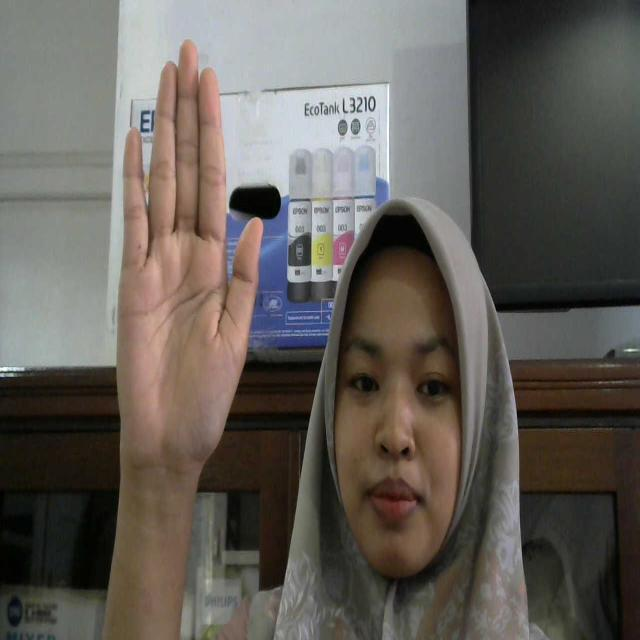hand: (92, 26, 279, 636)
